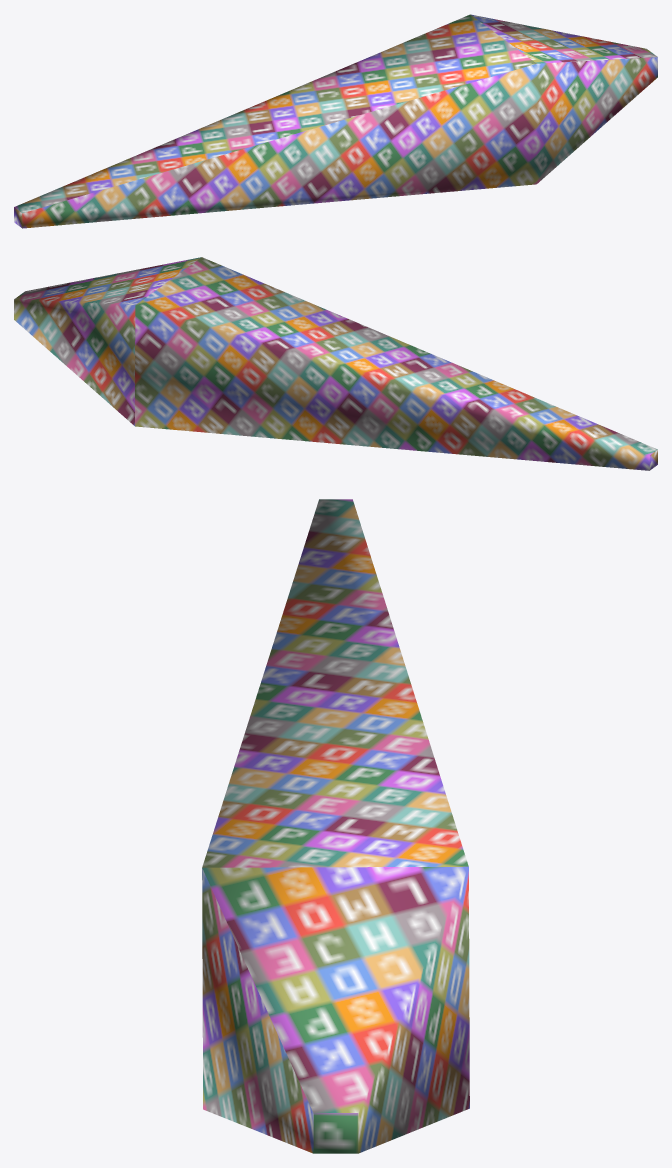
The model's file is bullet.dae.
The picture shows the model from 3 angles, top to bottom: view 1: azimuth 30°, elevation 25°; view 2: azimuth 150°, elevation 25°; view 3: azimuth 270°, elevation 25°; orthographic projection. The views are drawn at different scales.
Visible parts, largest first — view 1: Cube1-0; view 2: Cube1-0; view 3: Cube1-0.
Part boxes in pixels (x1,y1,x2,y2): Cube1-0: (14, 14, 657, 228); Cube1-0: (14, 257, 657, 470); Cube1-0: (202, 499, 469, 1153).
Size of the model in its own units: 2.61 by 0.4778 by 0.4778.
